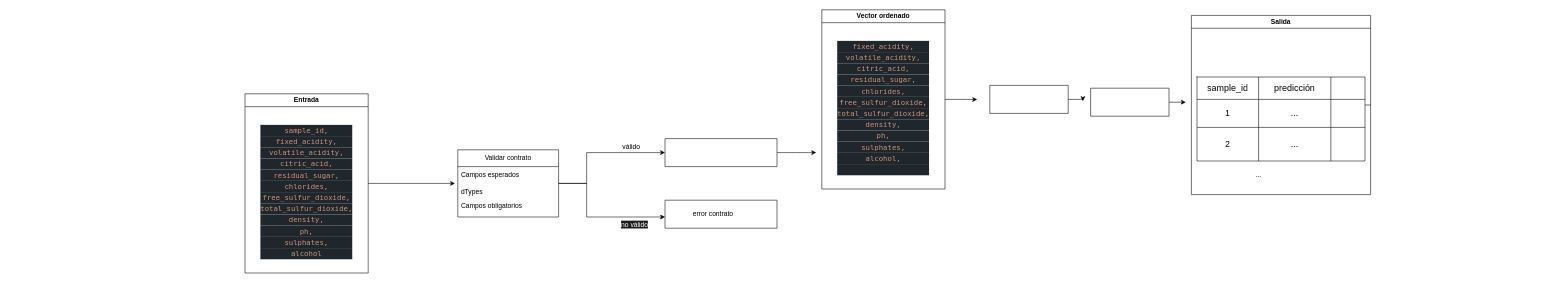
Some shapes in this 1559 by 283 pixel diagram are drawn without their labels. Here are the shapes that lost their labels. From the top down, the centre of each, then its label:
the point at 1028,99: Modelo - 11 features
the point at 1129,102: Predicción - y
the point at 720,152: Se separa sample_id
